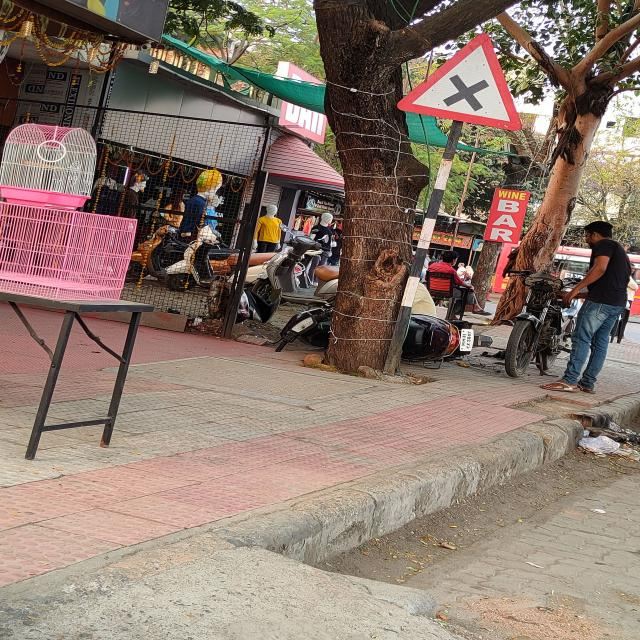cross_road: (397, 31, 523, 132)
